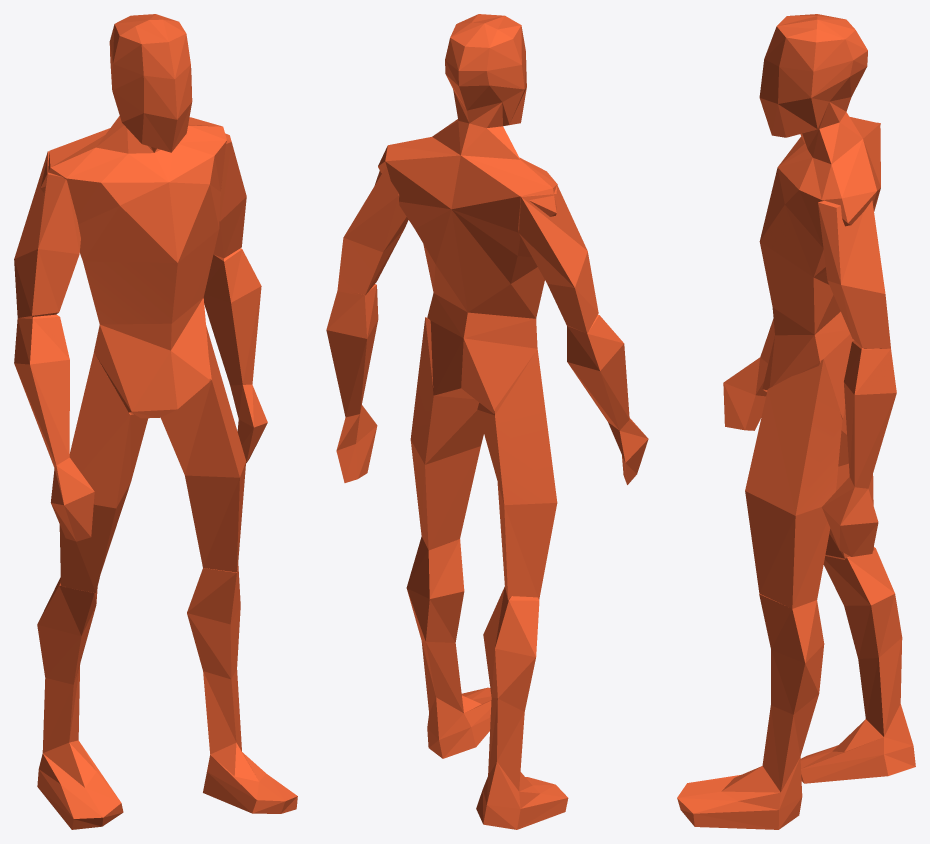
Rendered from bot.obj.
3 views of the same model, side by side, from view 1: azimuth 30°, elevation 25°; view 2: azimuth 150°, elevation 25°; view 3: azimuth 270°, elevation 25° (orthographic). The views are drawn at different scales.
Visible parts, largest first — view 1: body_body_BASE_Low_Poly_Man_0, asi_R_asi_R_BASE_Low_Poly_Man_0.008, asi_L_asi_L_BASE_Low_Poly_Man_0.003, momo_L_momo_L_BASE_Low_Poly_Man_0.002, momo_R_momo_R_BASE_Low_Poly_Man_0.007, ude_R_ude_R_BASE_Low_Poly_Man_0.004, ude_L_ude_L_BASE_Low_Poly_Man_0.006, jouwan_R_jouwan_R_BASE_Low_Poly_Man_0.001, jouwan_L_jouwan_L_BASE_Low_Poly_Man_0.005; view 2: body_body_BASE_Low_Poly_Man_0, momo_R_momo_R_BASE_Low_Poly_Man_0.007, asi_R_asi_R_BASE_Low_Poly_Man_0.008, asi_L_asi_L_BASE_Low_Poly_Man_0.003, momo_L_momo_L_BASE_Low_Poly_Man_0.002, ude_L_ude_L_BASE_Low_Poly_Man_0.006, jouwan_R_jouwan_R_BASE_Low_Poly_Man_0.001, ude_R_ude_R_BASE_Low_Poly_Man_0.004, jouwan_L_jouwan_L_BASE_Low_Poly_Man_0.005; view 3: body_body_BASE_Low_Poly_Man_0, momo_L_momo_L_BASE_Low_Poly_Man_0.002, asi_L_asi_L_BASE_Low_Poly_Man_0.003, asi_R_asi_R_BASE_Low_Poly_Man_0.008, ude_L_ude_L_BASE_Low_Poly_Man_0.006, jouwan_L_jouwan_L_BASE_Low_Poly_Man_0.005, ude_R_ude_R_BASE_Low_Poly_Man_0.004, momo_R_momo_R_BASE_Low_Poly_Man_0.007.
Part boxes in pixels (x1,y1,x2,y2): body_body_BASE_Low_Poly_Man_0: (40,14,226,418); asi_R_asi_R_BASE_Low_Poly_Man_0.008: (37,577,123,829); asi_L_asi_L_BASE_Low_Poly_Man_0.003: (187,563,297,813); momo_L_momo_L_BASE_Low_Poly_Man_0.002: (160,325,246,572); momo_R_momo_R_BASE_Low_Poly_Man_0.007: (59,352,148,593); ude_R_ude_R_BASE_Low_Poly_Man_0.004: (14,314,94,541); ude_L_ude_L_BASE_Low_Poly_Man_0.006: (203,248,267,463); jouwan_R_jouwan_R_BASE_Low_Poly_Man_0.001: (14,151,80,317); jouwan_L_jouwan_L_BASE_Low_Poly_Man_0.005: (213,133,246,258); body_body_BASE_Low_Poly_Man_0: (378,14,557,413); momo_R_momo_R_BASE_Low_Poly_Man_0.007: (477,349,557,600); asi_R_asi_R_BASE_Low_Poly_Man_0.008: (476,586,568,829); asi_L_asi_L_BASE_Low_Poly_Man_0.003: (406,536,491,758); momo_L_momo_L_BASE_Low_Poly_Man_0.002: (410,317,483,550); ude_L_ude_L_BASE_Low_Poly_Man_0.006: (326,284,378,482); jouwan_R_jouwan_R_BASE_Low_Poly_Man_0.001: (518,186,598,333); ude_R_ude_R_BASE_Low_Poly_Man_0.004: (567,314,648,484); jouwan_L_jouwan_L_BASE_Low_Poly_Man_0.005: (337,167,408,295); body_body_BASE_Low_Poly_Man_0: (759,14,880,419); momo_L_momo_L_BASE_Low_Poly_Man_0.002: (745,359,842,608); asi_L_asi_L_BASE_Low_Poly_Man_0.003: (677,594,824,829); asi_R_asi_R_BASE_Low_Poly_Man_0.008: (800,547,915,783); ude_L_ude_L_BASE_Low_Poly_Man_0.006: (822,340,896,556); jouwan_L_jouwan_L_BASE_Low_Poly_Man_0.005: (818,200,890,348); ude_R_ude_R_BASE_Low_Poly_Man_0.004: (723,318,774,430); momo_R_momo_R_BASE_Low_Poly_Man_0.007: (825,413,874,559).
Bounding box in the file's own units: 0.6816 × 1.96 × 0.538.
